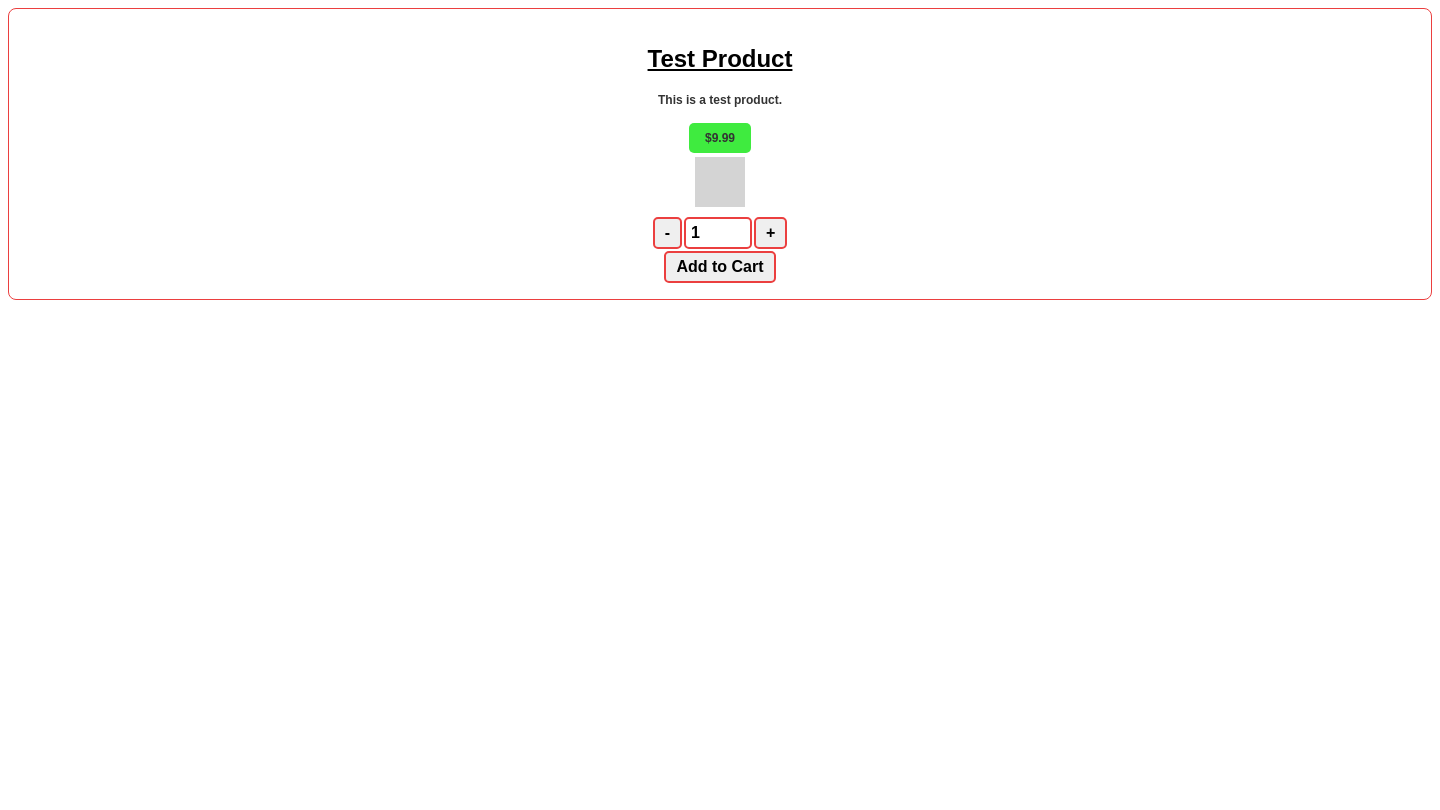
Scenario: Card › handles submit correctly
This screenshot has width=1440, height=810.
// Empty input should reset to 1 on submit
Clear the number field. click: (718, 233)
box: [684, 217, 752, 249]
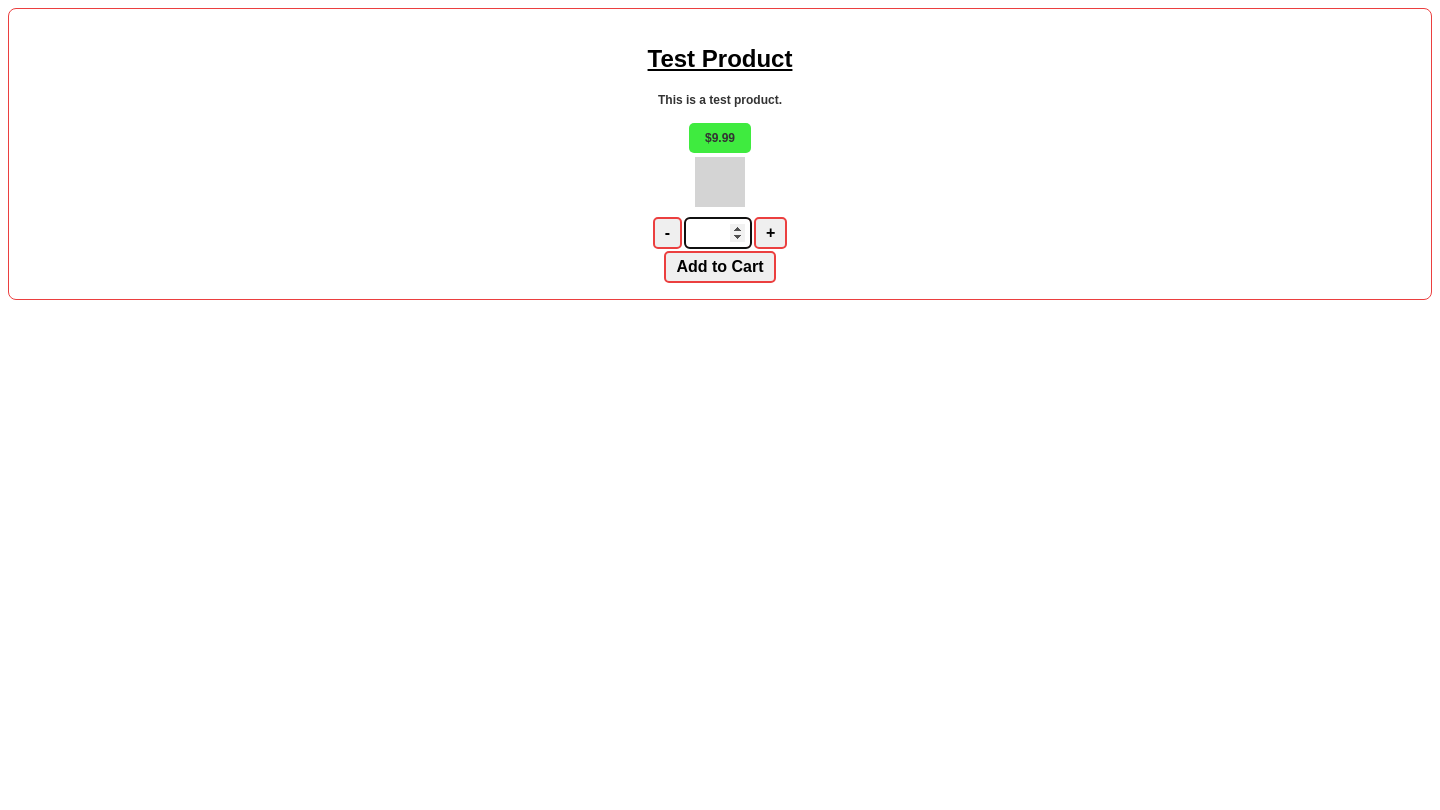
Click the button "Add to Cart". click: click(720, 267)
box: [664, 251, 776, 283]
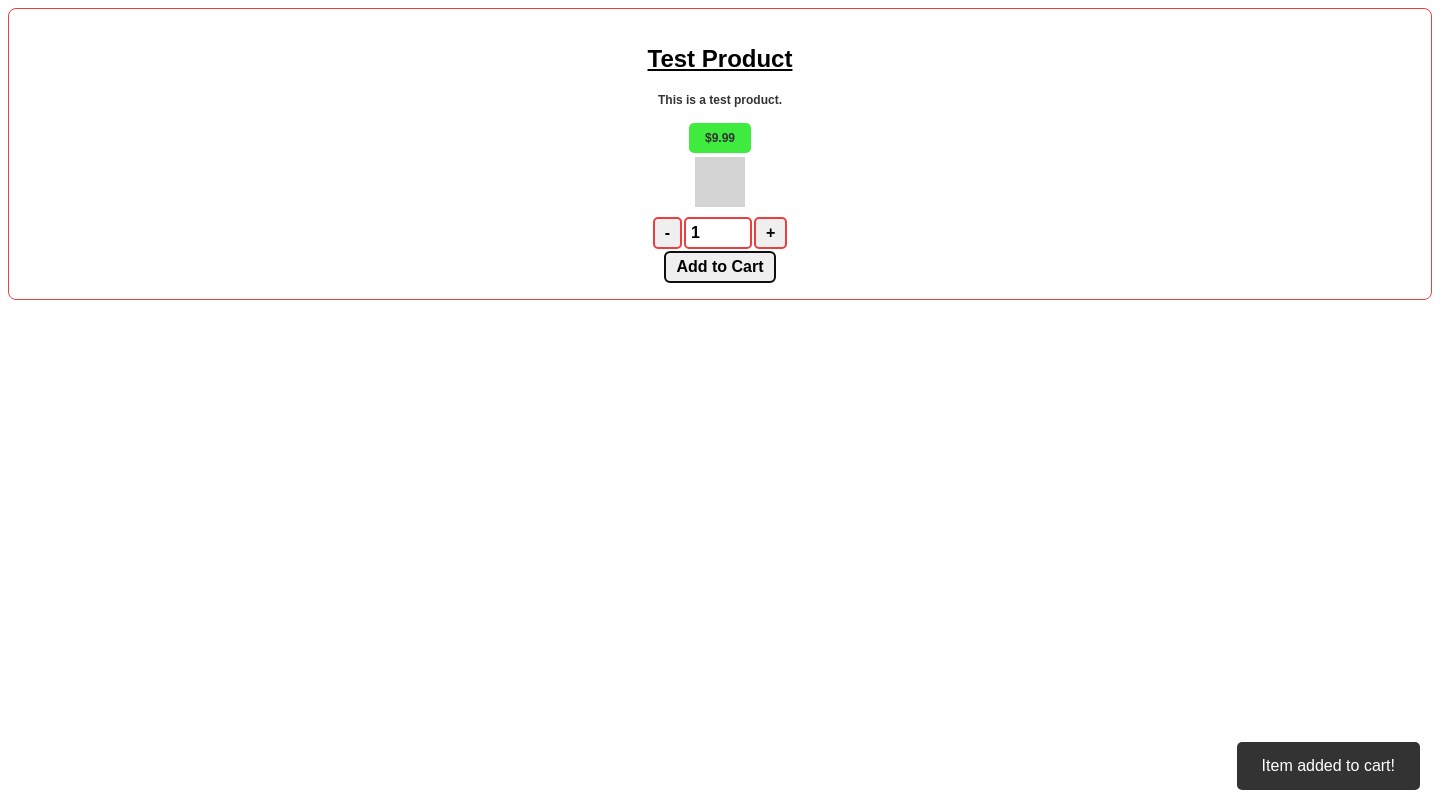
Expected: the number field holds "1"
// Input should reset to 1 after adding any number of item into cart
Replace the text in the number field with "5". click: (718, 233)
box: [684, 217, 752, 249]
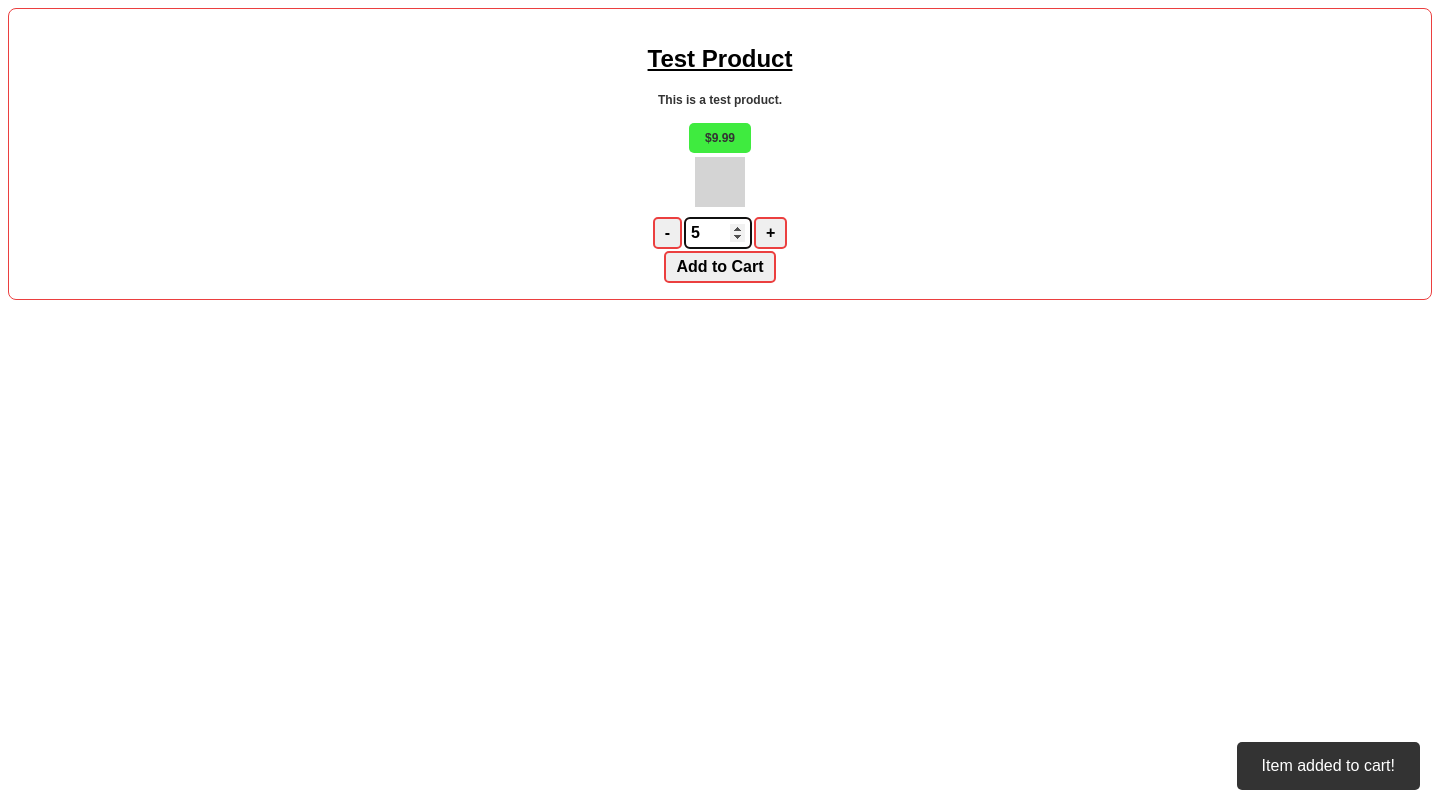
Click the button "Add to Cart". click: click(720, 267)
box: [664, 251, 776, 283]
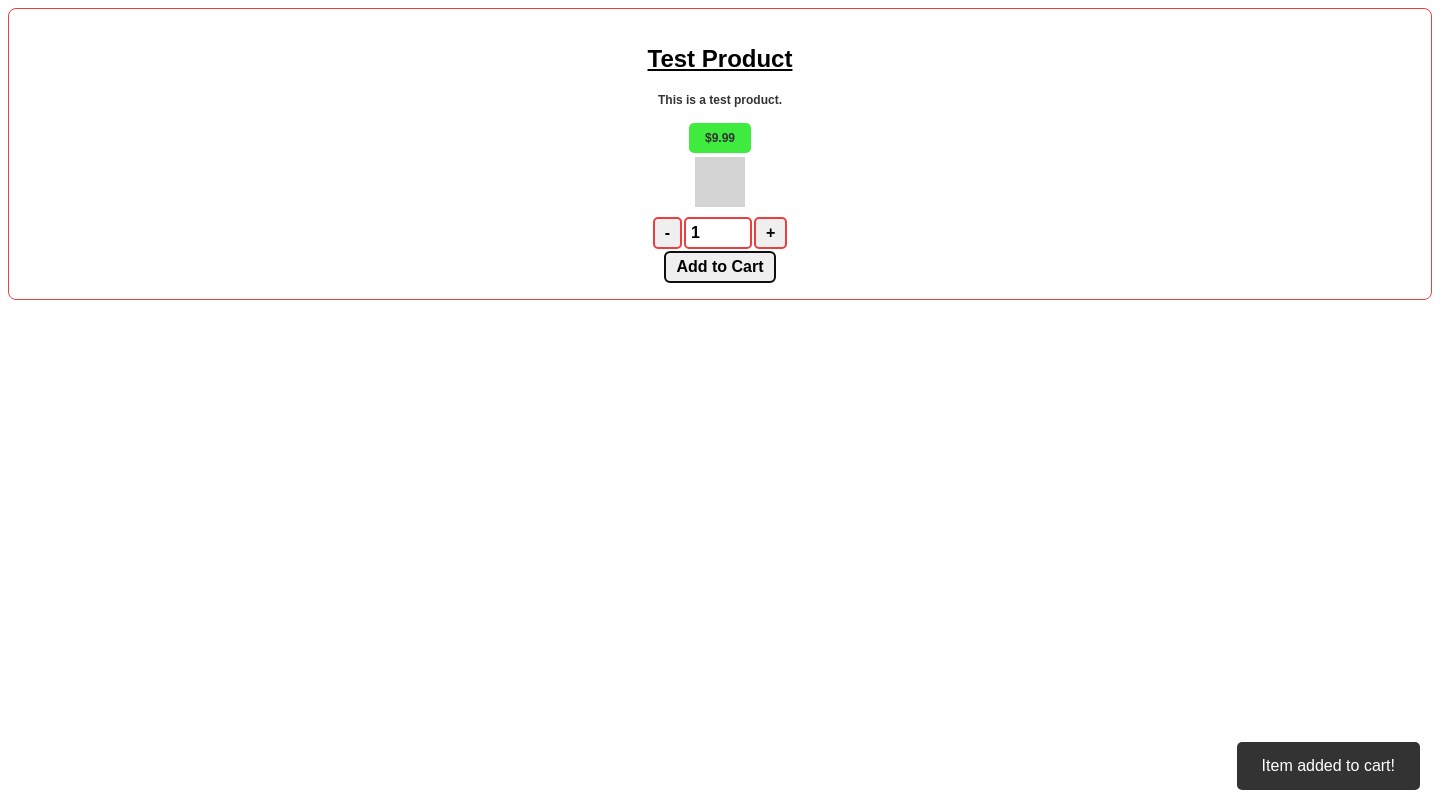
Expected: the number field holds "1", [684, 217, 752, 249]
